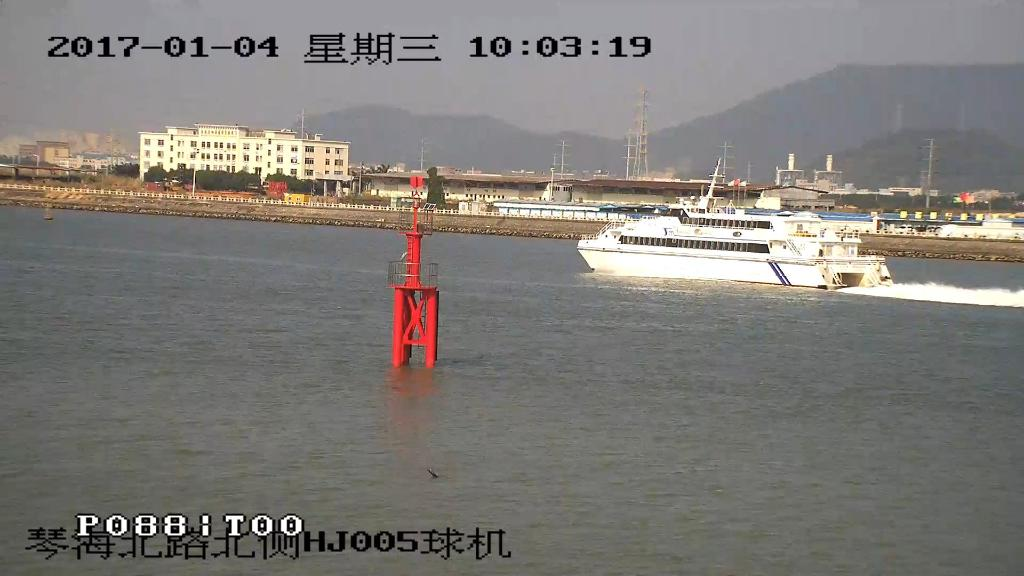PassengerShip: (570, 178, 900, 296)
